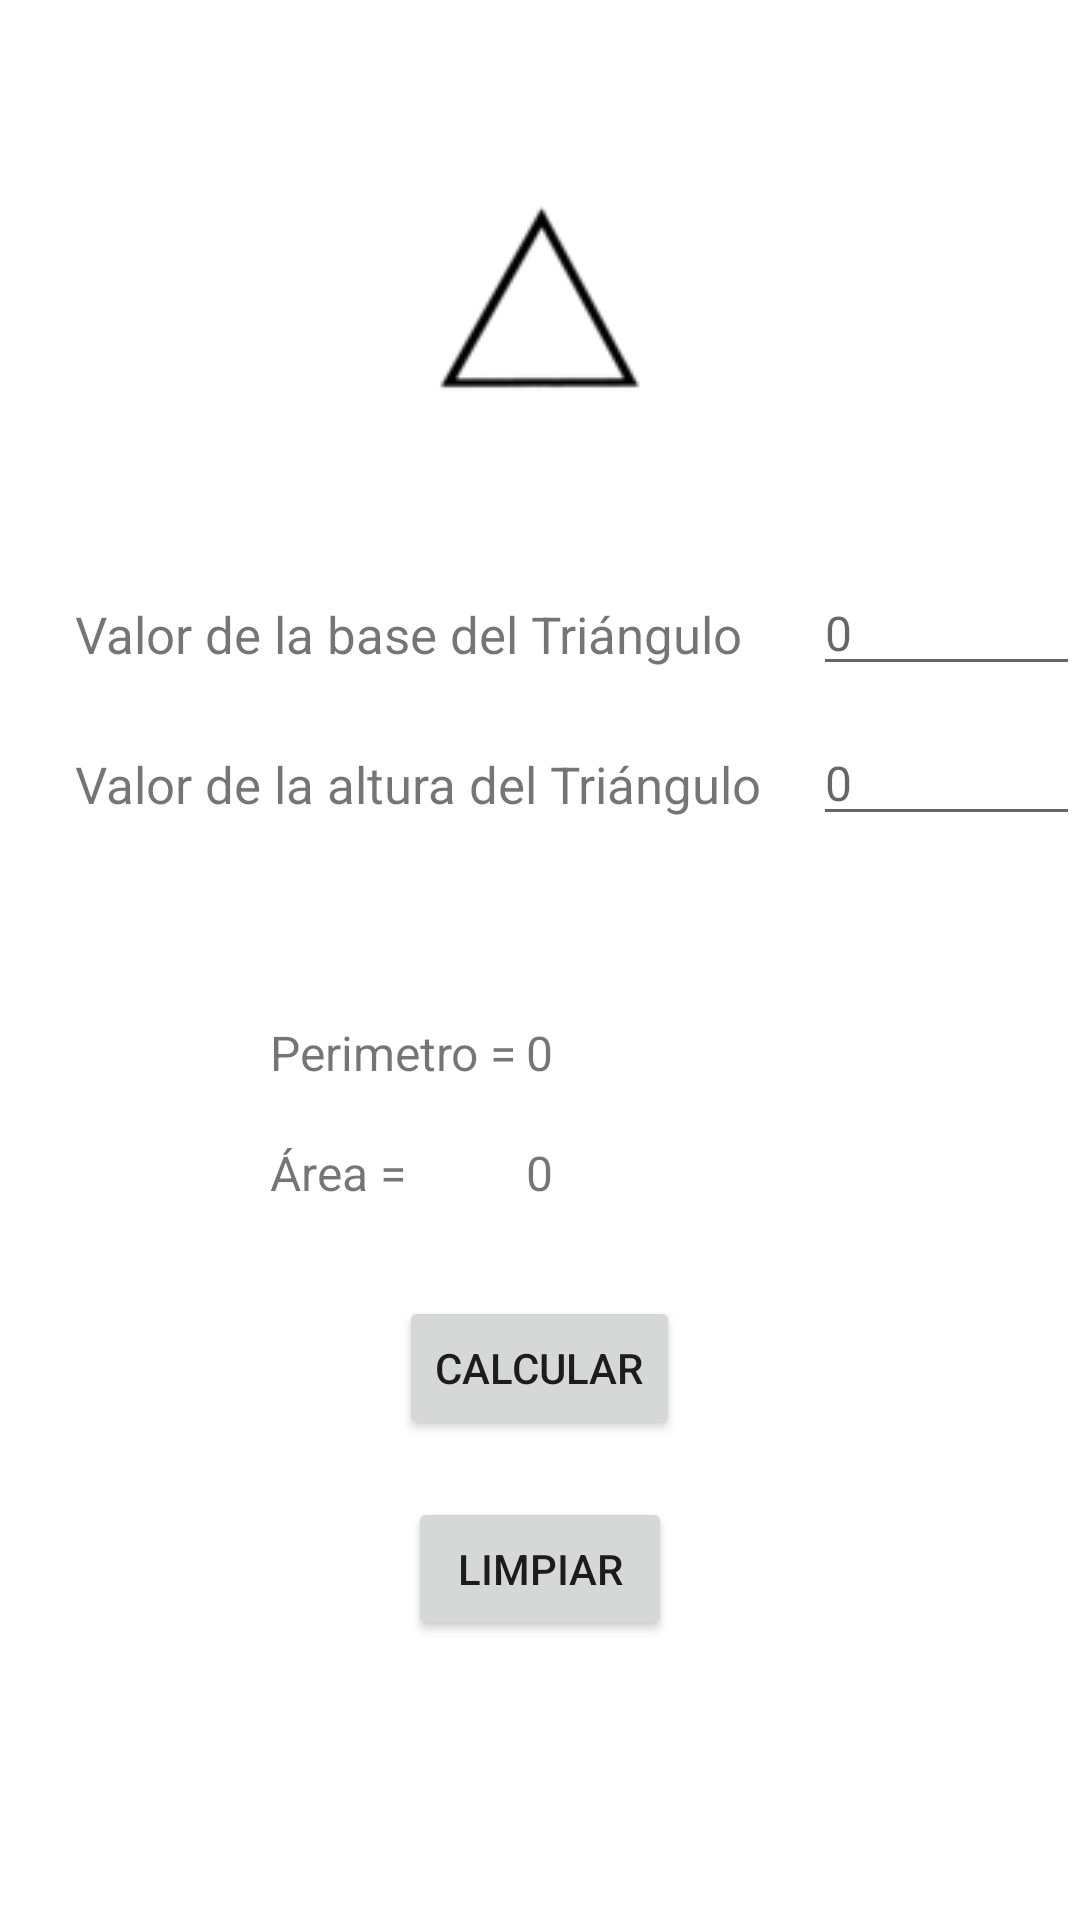

Icon bounding boxes for this 1080px x 1920px phone screenshot, format (x1, y1, x2, y2):
triangulo: (440, 207, 640, 388)
